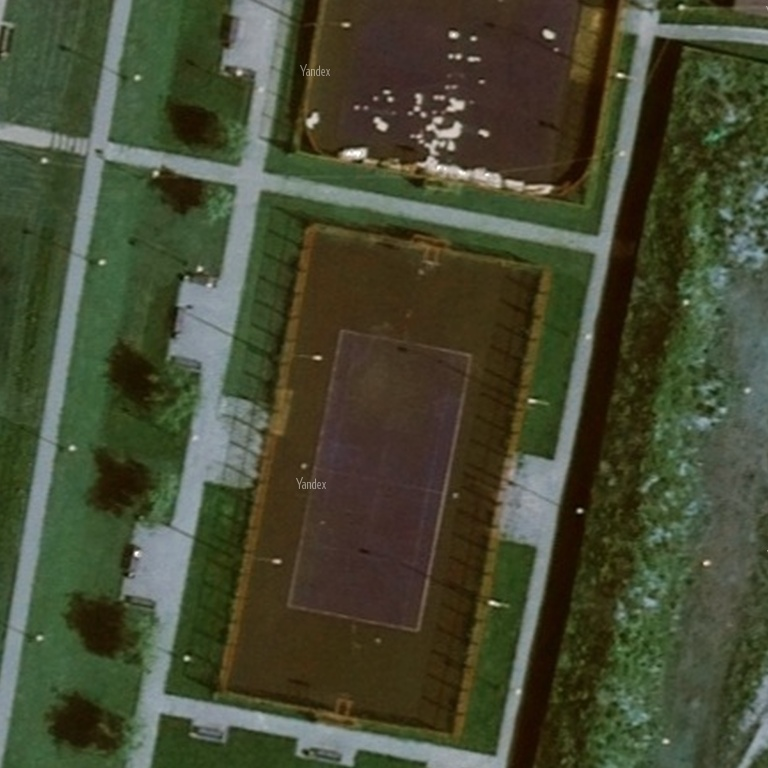basket_court: (204, 212, 565, 747)
